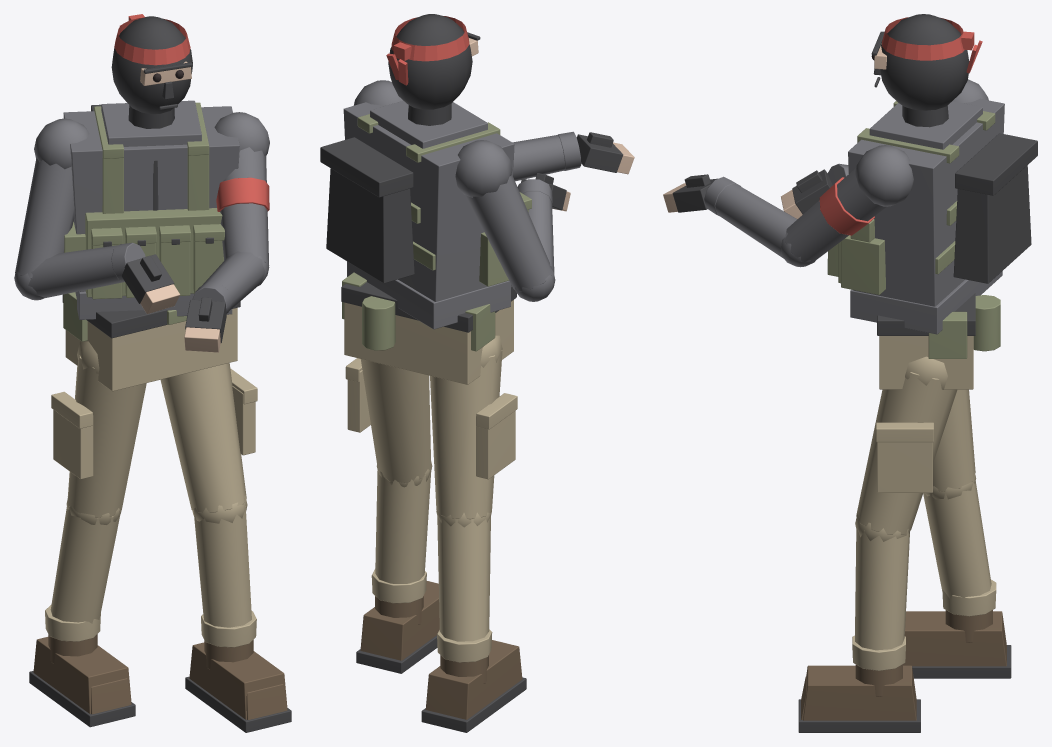
File: terrorist.glb
The picture shows the model from 3 angles, left to right: view 1: azimuth 30°, elevation 25°; view 2: azimuth 150°, elevation 25°; view 3: azimuth 270°, elevation 25°; orthographic projection.
Parts seen in each view (by area): view 1: Terrorist; view 2: Terrorist; view 3: Terrorist.
Part boxes in pixels (x1,y1,x2,y2): Terrorist: (14,14,291,732); Terrorist: (320,14,634,732); Terrorist: (663,14,1037,732).
Bounding box in the file's own units: 0.6043 × 1.74 × 0.8725.
